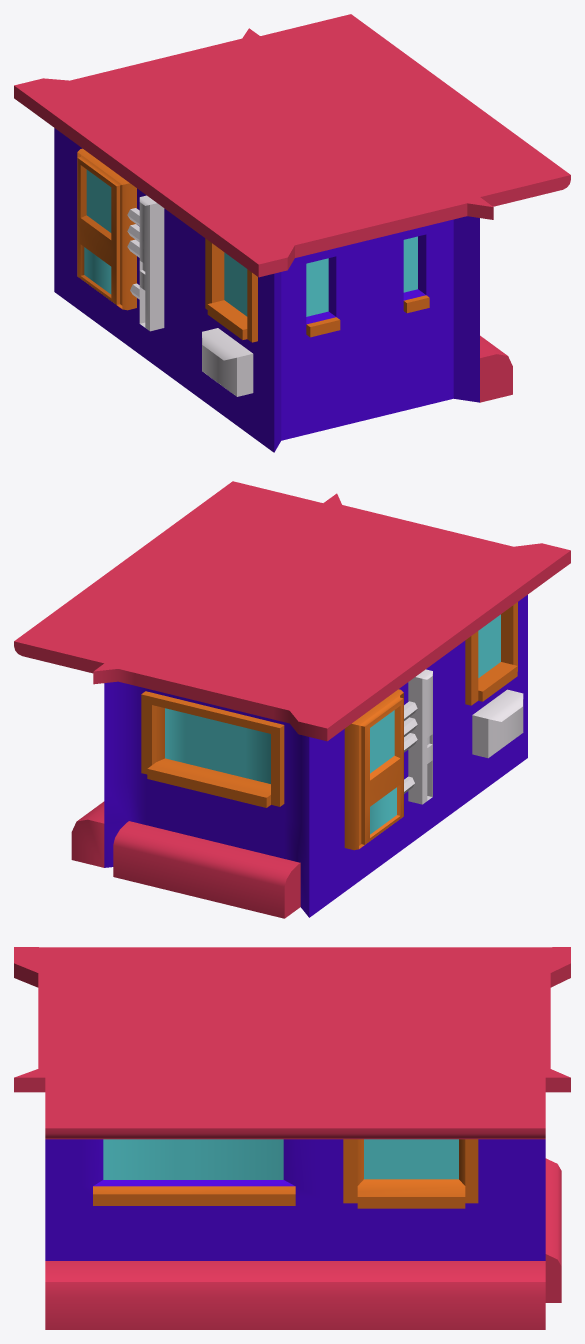
Rendered from FBX_LC_mHouse4.fbx.
3 views of the same model, one above another, from view 1: azimuth 30°, elevation 25°; view 2: azimuth 150°, elevation 25°; view 3: azimuth 270°, elevation 25° (orthographic). The views are drawn at different scales.
Visible parts, largest first — view 1: Cube.031; view 2: Cube.031; view 3: Cube.031.
Boxes of the visible parts, x1,y1,x2,y2 form: Cube.031: (14,14,570,452); Cube.031: (14,481,570,918); Cube.031: (14,947,570,1329).
Size of the model in its own units: 1536 by 925 by 1997.
